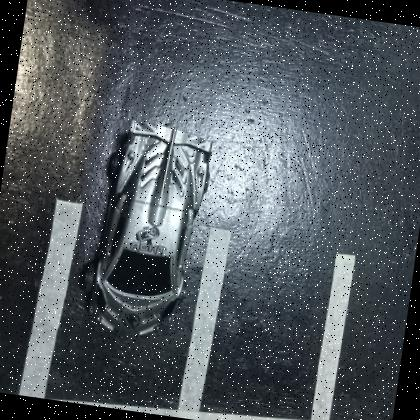Car: (82, 119, 212, 334)
